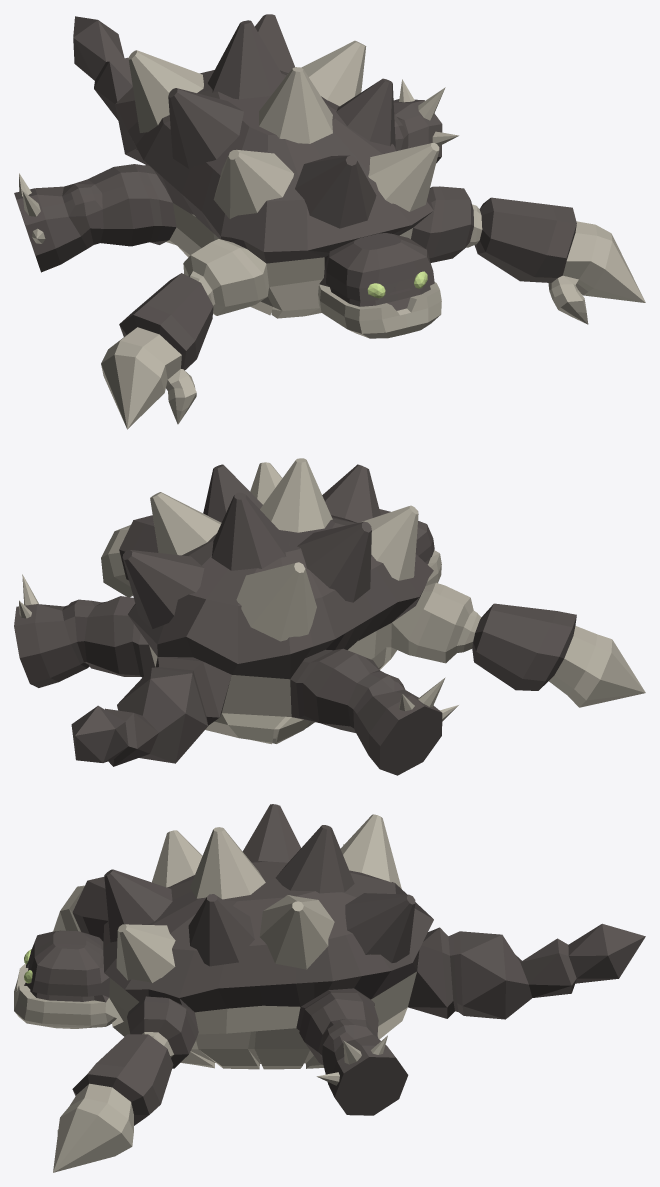
File: 2nd Floor Monster2.fbx
The picture shows the model from 3 angles, top to bottom: view 1: azimuth 30°, elevation 25°; view 2: azimuth 150°, elevation 25°; view 3: azimuth 270°, elevation 25°; orthographic projection. The views are drawn at different scales.
Parts seen in each view (by area): view 1: Cone.003; view 2: Cone.003; view 3: Cone.003.
Part boxes in pixels (x1=…): Cone.003: x1=14, y1=14, x2=645, y2=429; Cone.003: x1=14, y1=458, x2=645, y2=775; Cone.003: x1=14, y1=804, x2=645, y2=1172.
Size of the model in its own units: 5.6 by 2.58 by 6.21.
